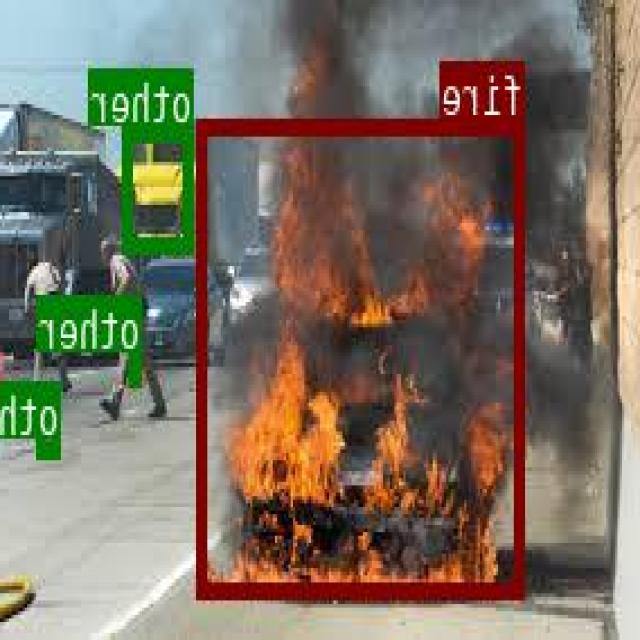fire: (199, 117, 527, 597)
other: (125, 123, 195, 250), (39, 378, 62, 454), (131, 348, 144, 384)
